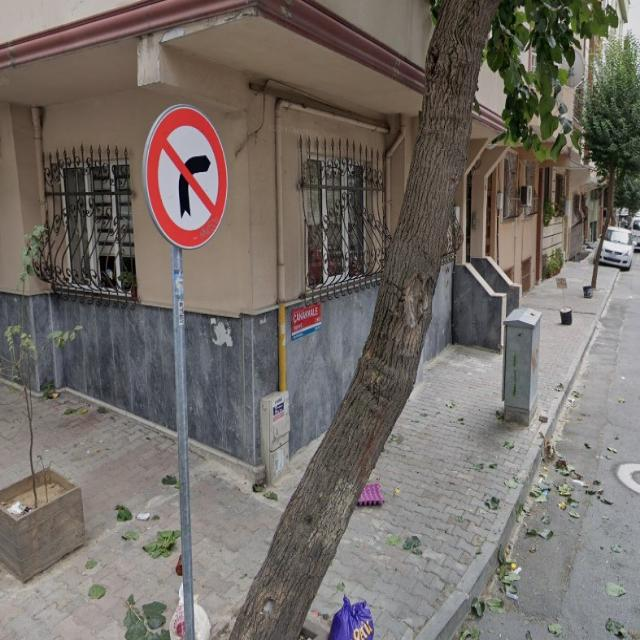sagadonulmez: (145, 106, 229, 248)
